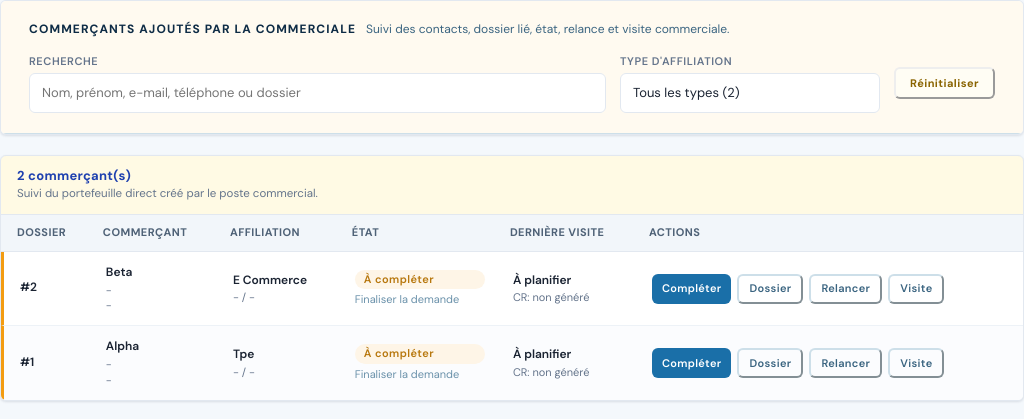
CommercialDirectMerchantsPage › filtre par type d'affiliation et reinitialise
Expected: the text "Alpha" is shown, [106,338,139,354]
Select "Tpe (1)" in the dropdown labelled "Type d'affiliation": [750, 93] box [620,73,880,113]
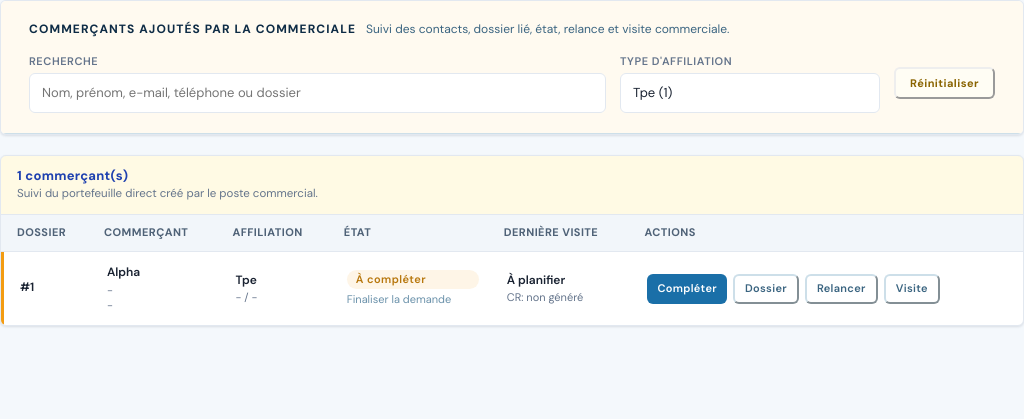
Expected: the text "Alpha" is shown, [107,264,140,280]
Expected: the text "Beta" is gone
Click the button "Réinitialiser": [945, 84] box [894,68,995,100]
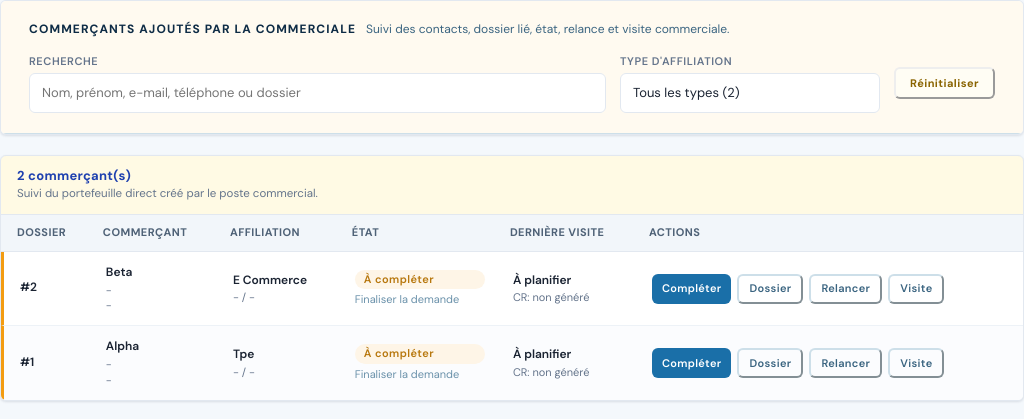
Expected: the text "Alpha" is shown, [106,338,139,354]
Expected: the text "Beta" is shown, [106,264,132,280]
